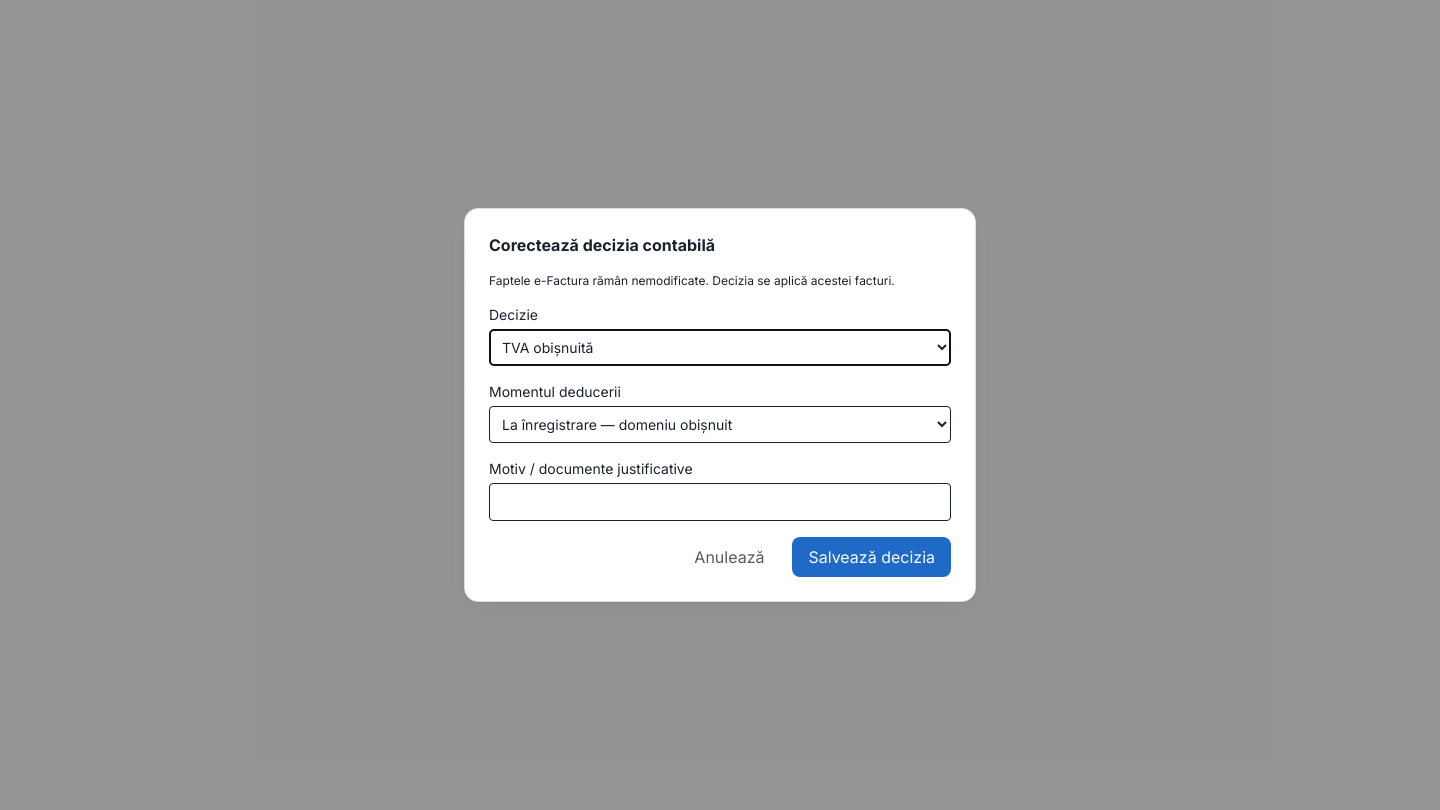
accounting domain v2 › cannot invent missing source rate through fiscal correction
The width and height of the screenshot is (1440, 810).
Type "TEST_ONLY review" into the field labelled "Motiv / documente justificative".
click(720, 502); type("TEST_ONLY review")  # box 489,483 -> 951,521
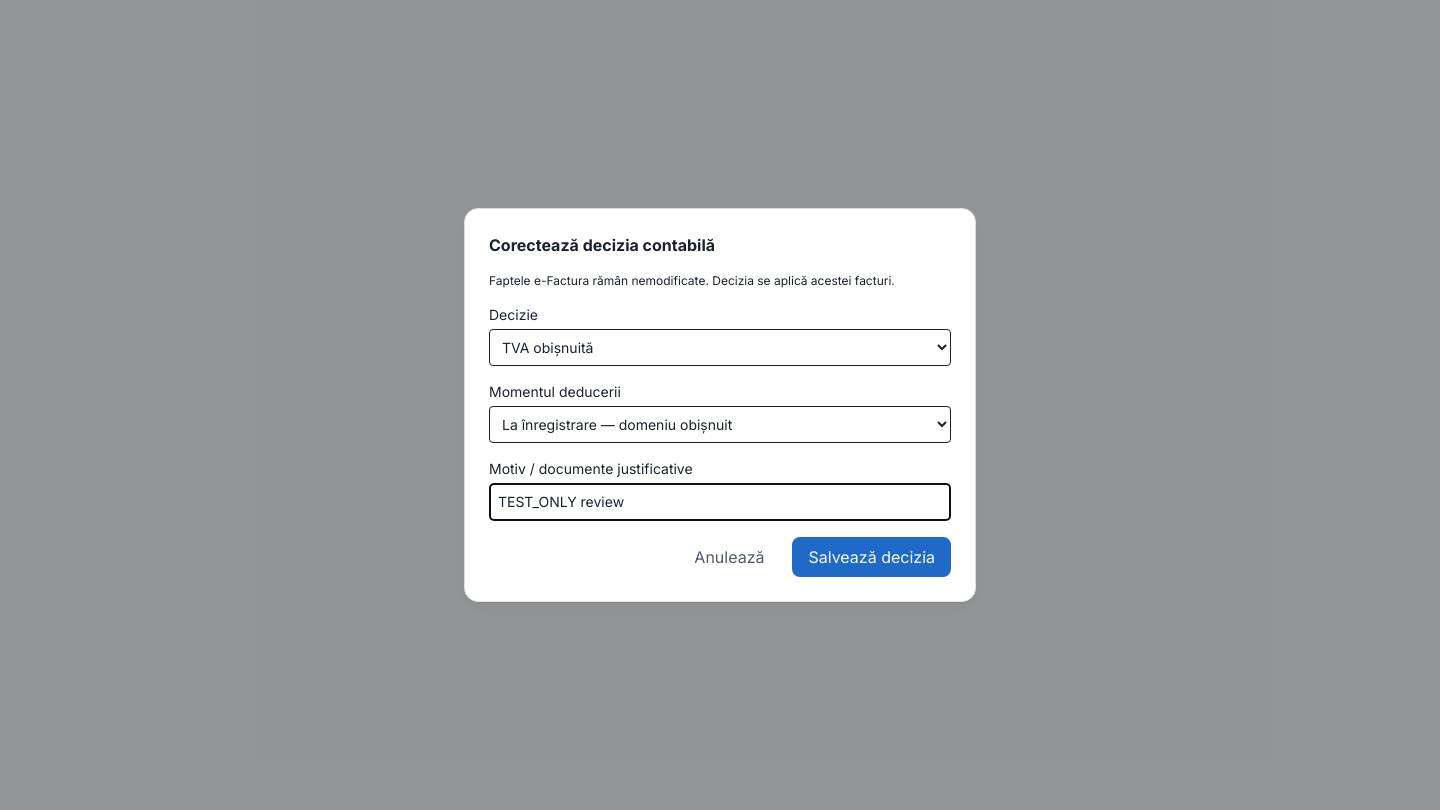
Click the button "Salvează decizia".
click(872, 557)  # box 792,537 -> 951,577
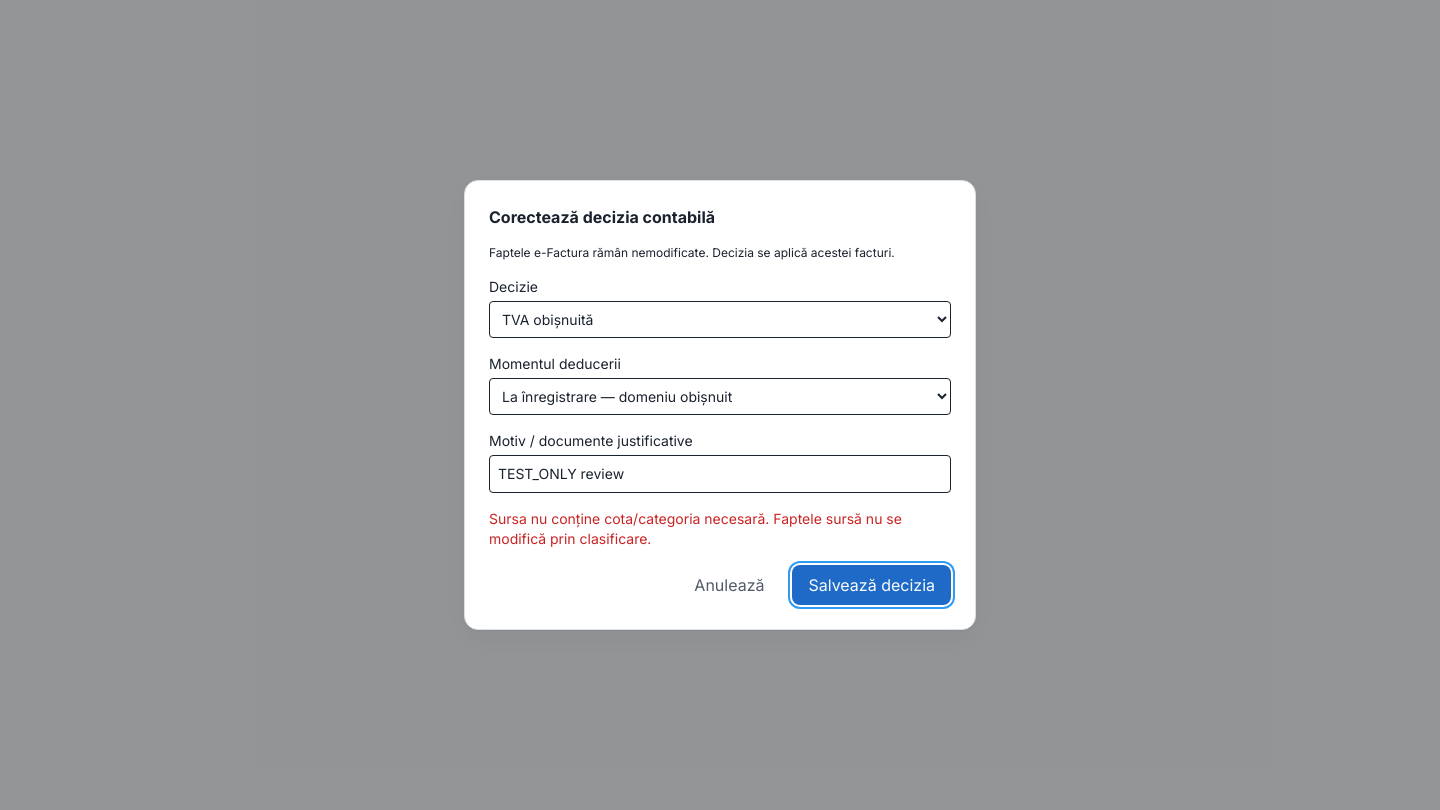
Now the message shows "Sursa nu conține cota/categoria", box 489,510 -> 902,547
